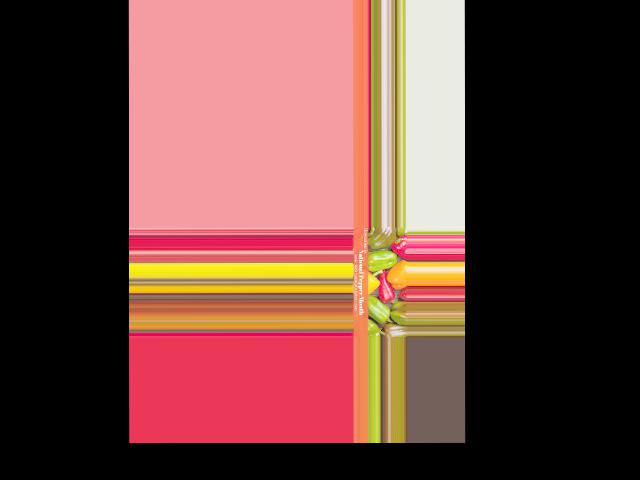bell_pepper: (367, 227, 396, 249)
